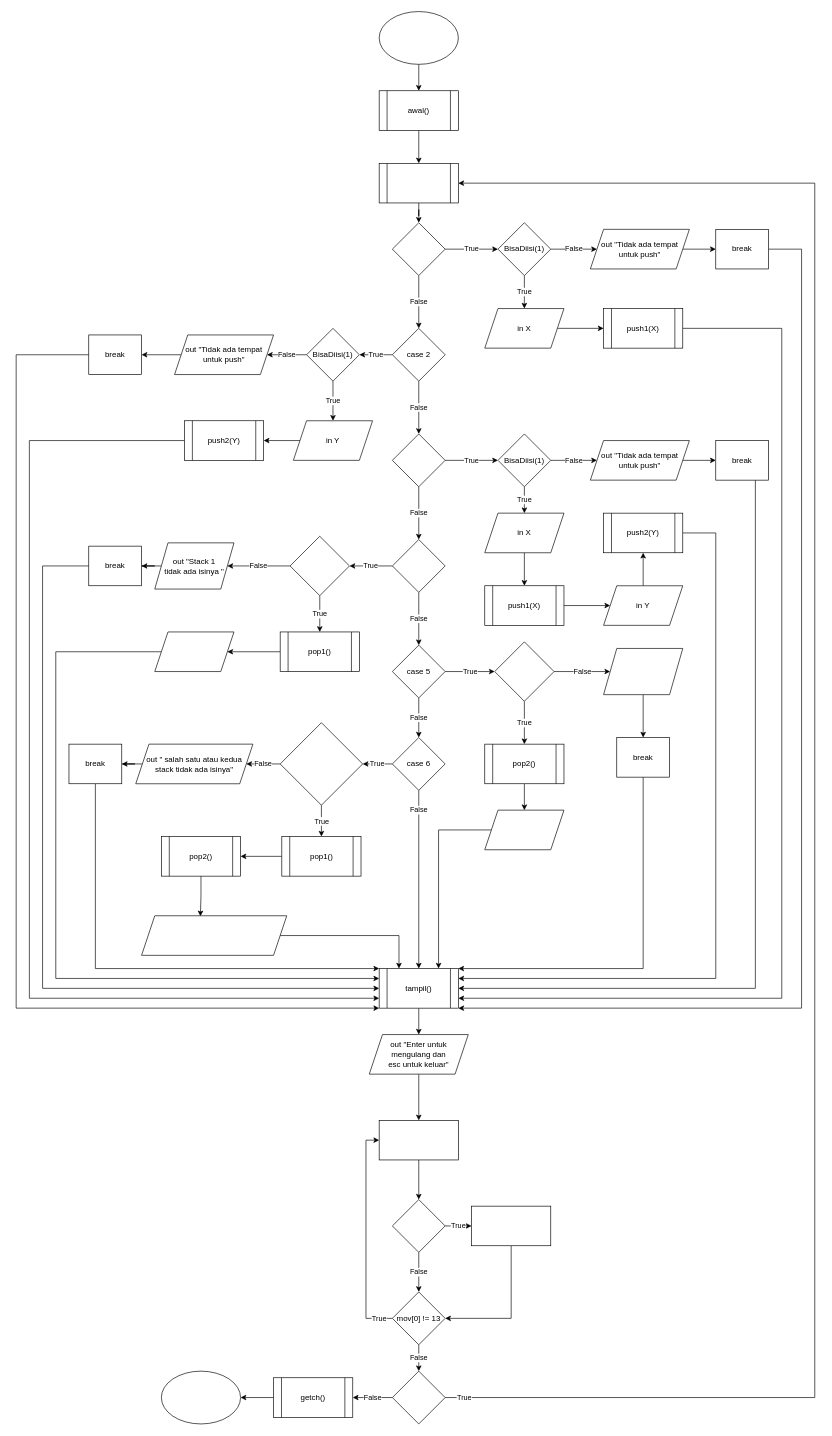
The diagram is 832 pixels wide and 1436 high, and some of its shapes have lost their labels. Each missing label, with the box of its shape:
BisaDiambil1(): (289, 536, 349, 596)
BisaDiambil1() && BisaDiambil2(): (280, 722, 363, 805)
BisaDiambil2(): (494, 641, 554, 701)
case 1: (392, 222, 445, 276)
case 3: (392, 433, 445, 487)
case 4: (392, 539, 445, 592)
cout "isi yang baru di pop = ", X, Y: (141, 915, 287, 955)
END: (161, 1370, 241, 1424)
exit(0): (471, 1205, 551, 1246)
mov[0] = 13: (392, 1370, 445, 1424)
mov[0] = 27: (392, 1199, 445, 1252)
mov[0] = getch(): (379, 1120, 458, 1160)
out "Angka yang diambil = ", X: (484, 809, 564, 850)
out "Data yang diambil = ", X: (154, 631, 234, 672)
out "Stack 2 tidak ada isinya ": (603, 648, 683, 695)
START: (379, 11, 458, 64)
tampilMenu(): (379, 163, 458, 203)
